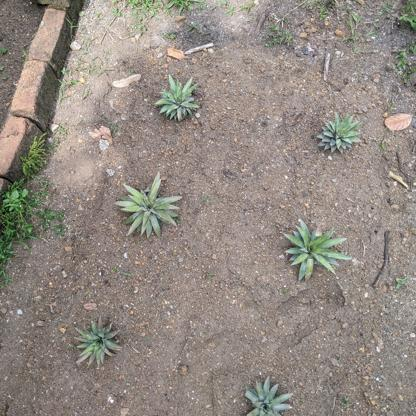pineapple: (279, 215, 355, 287), (114, 171, 182, 241), (71, 315, 126, 374), (154, 71, 202, 125), (315, 109, 364, 160), (239, 376, 294, 416)
